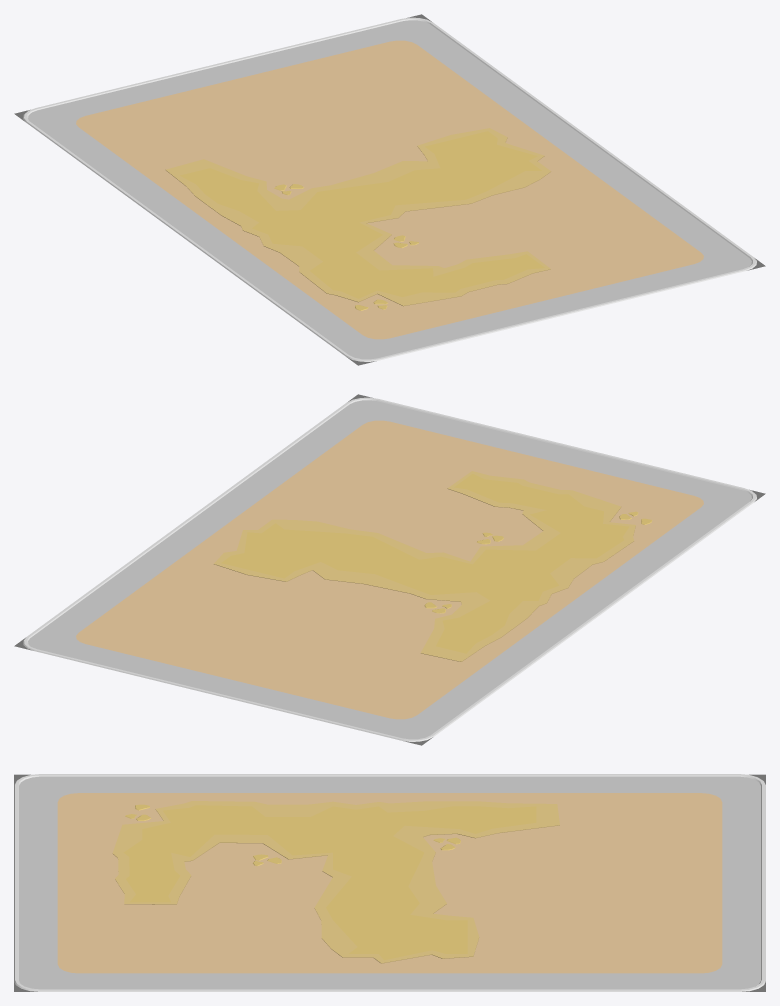
File: place_3.fbx
3 views of the same model, one above another, from view 1: azimuth 30°, elevation 25°; view 2: azimuth 150°, elevation 25°; view 3: azimuth 270°, elevation 25° (orthographic). The views are drawn at different scales.
Visible parts, largest first — view 1: place_3; view 2: place_3; view 3: place_3.
Part boxes in pixels (x1,y1,x2,y2): place_3: [14, 14, 765, 365]; place_3: [14, 394, 765, 745]; place_3: [14, 774, 765, 991].
Bounding box in the file's own units: 4140 × 8.16 × 6051.
